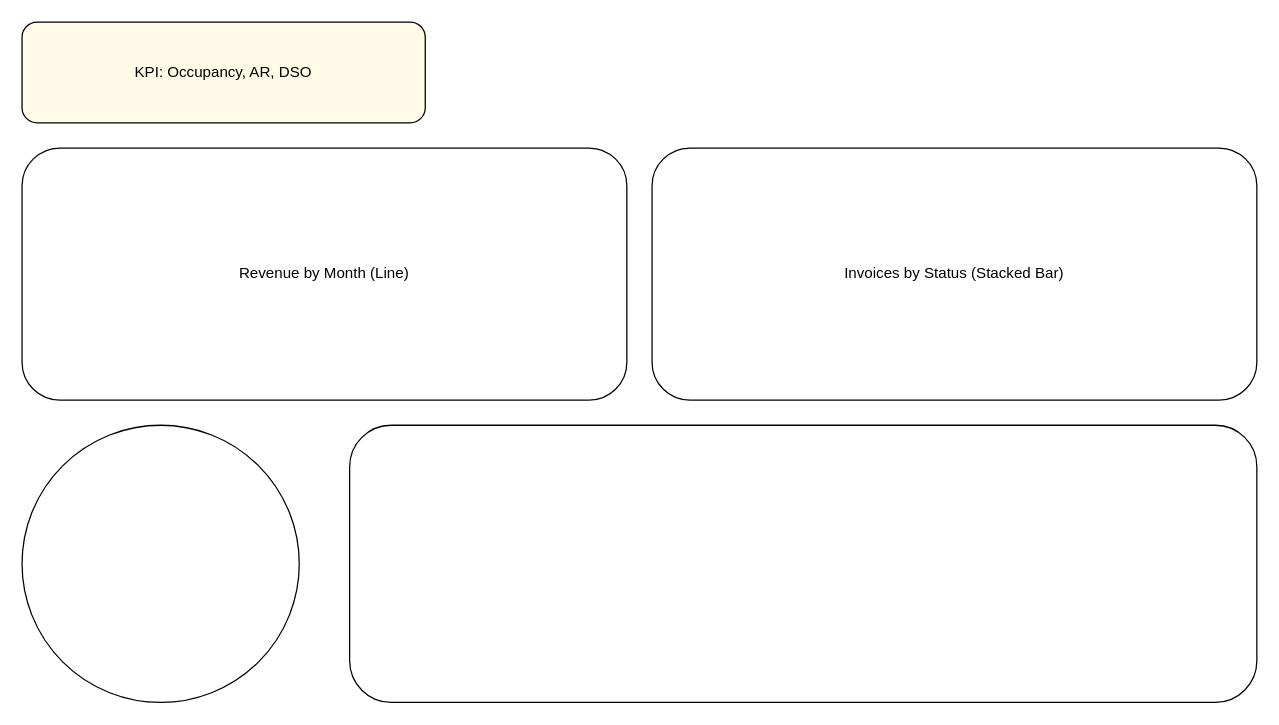
Image size: 1279x725. Some labels were removed from this diagram. The shapes that lost their labels are listed below. From the top down, each one's centre as x and y in pixels, then its label:
At point (160, 563): "Area by Premise Type (Donut)".
At point (802, 563): "Payments Heatmap".
